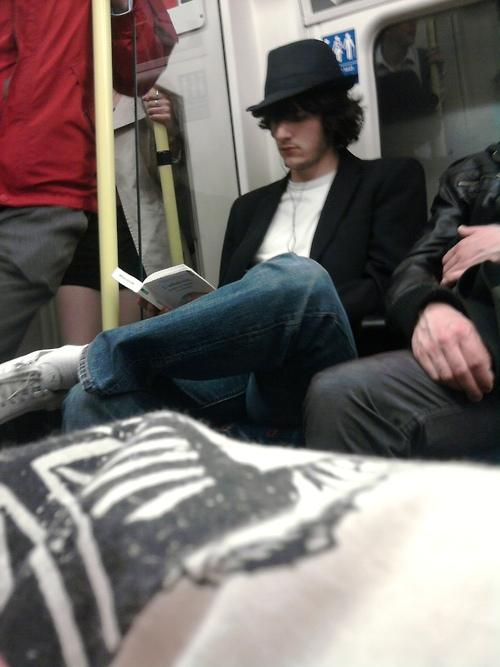person: (62, 40, 428, 436)
